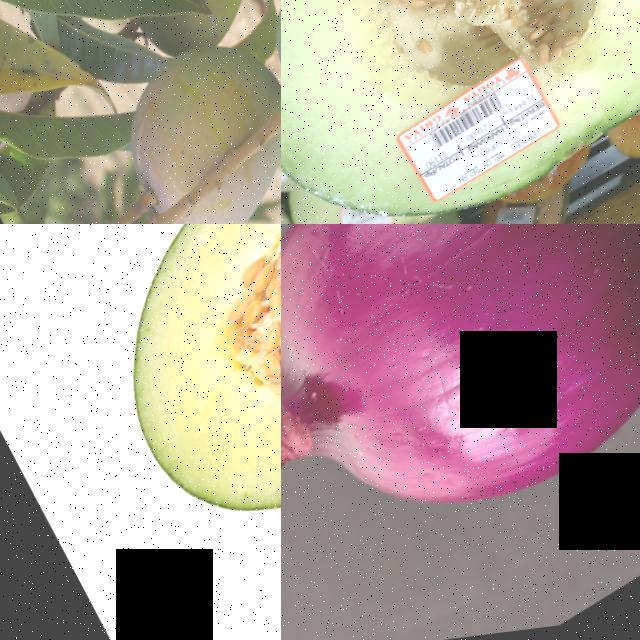mango: (94, 18, 281, 216), (152, 0, 279, 47)
melon: (43, 224, 281, 614), (281, 0, 640, 224)
onion: (281, 224, 640, 624)
